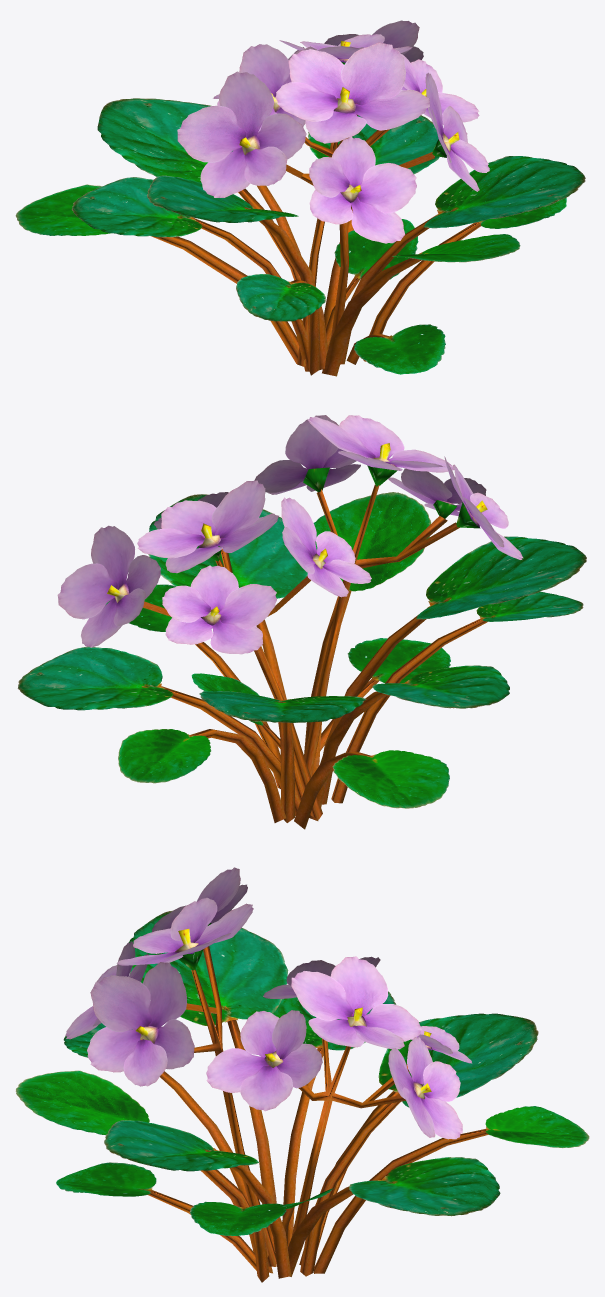
File: Saintpaulia1A.fbx
The picture shows the model from 3 angles, top to bottom: view 1: azimuth 30°, elevation 25°; view 2: azimuth 150°, elevation 25°; view 3: azimuth 270°, elevation 25°; orthographic projection. The views are drawn at different scales.
Visible parts, largest first — view 1: Sainpaulia1A_LOD0; view 2: Sainpaulia1A_LOD0; view 3: Sainpaulia1A_LOD0.
Part boxes in pixels (box(x1,y1,x2,y2)): Sainpaulia1A_LOD0: box(15, 20, 585, 376); Sainpaulia1A_LOD0: box(17, 415, 586, 829); Sainpaulia1A_LOD0: box(15, 867, 589, 1282).
Size of what is drawn, in the model's own units: 56.25 by 43.13 by 62.33.
